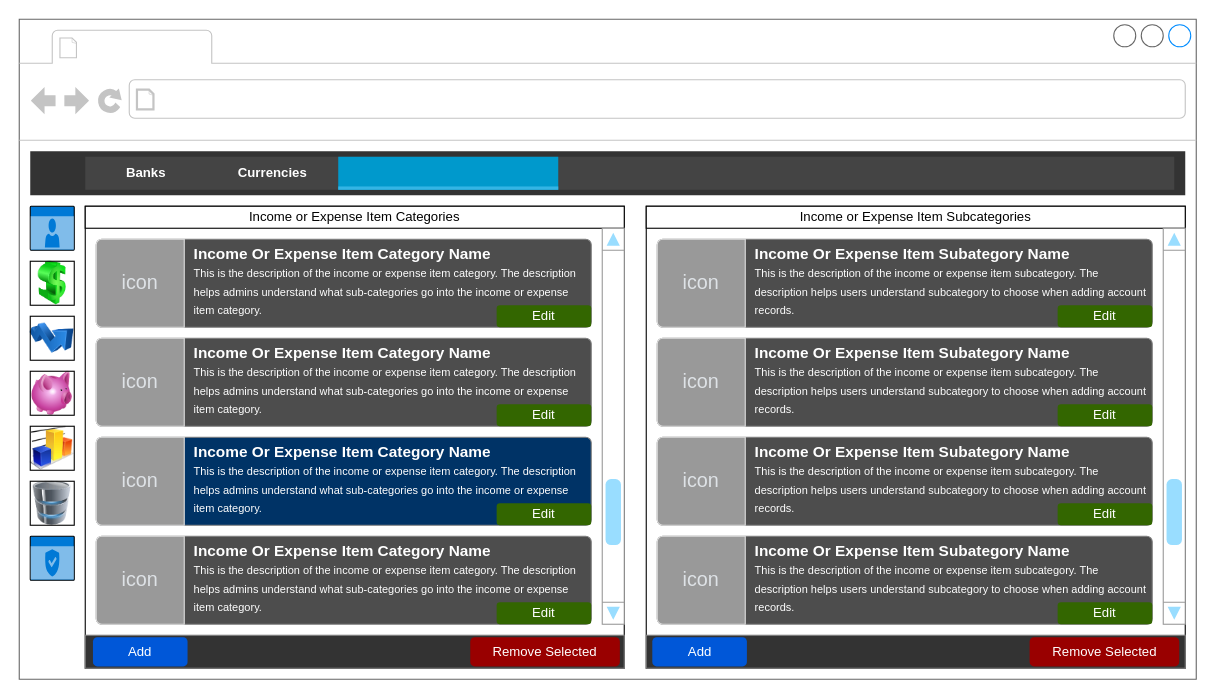
Image size: 1216x699. Some labels were removed from this diagram. The shapes that lost their labels are listed below. From the top down, each one's centre as x and y in pixels, then its label:
point 139,46: Catalog
point 299,99: https://acct.desolatetimelines.com/catalog/income-or-expense-items
point 448,172: Income or Expense Items
point 600,173: Icons
